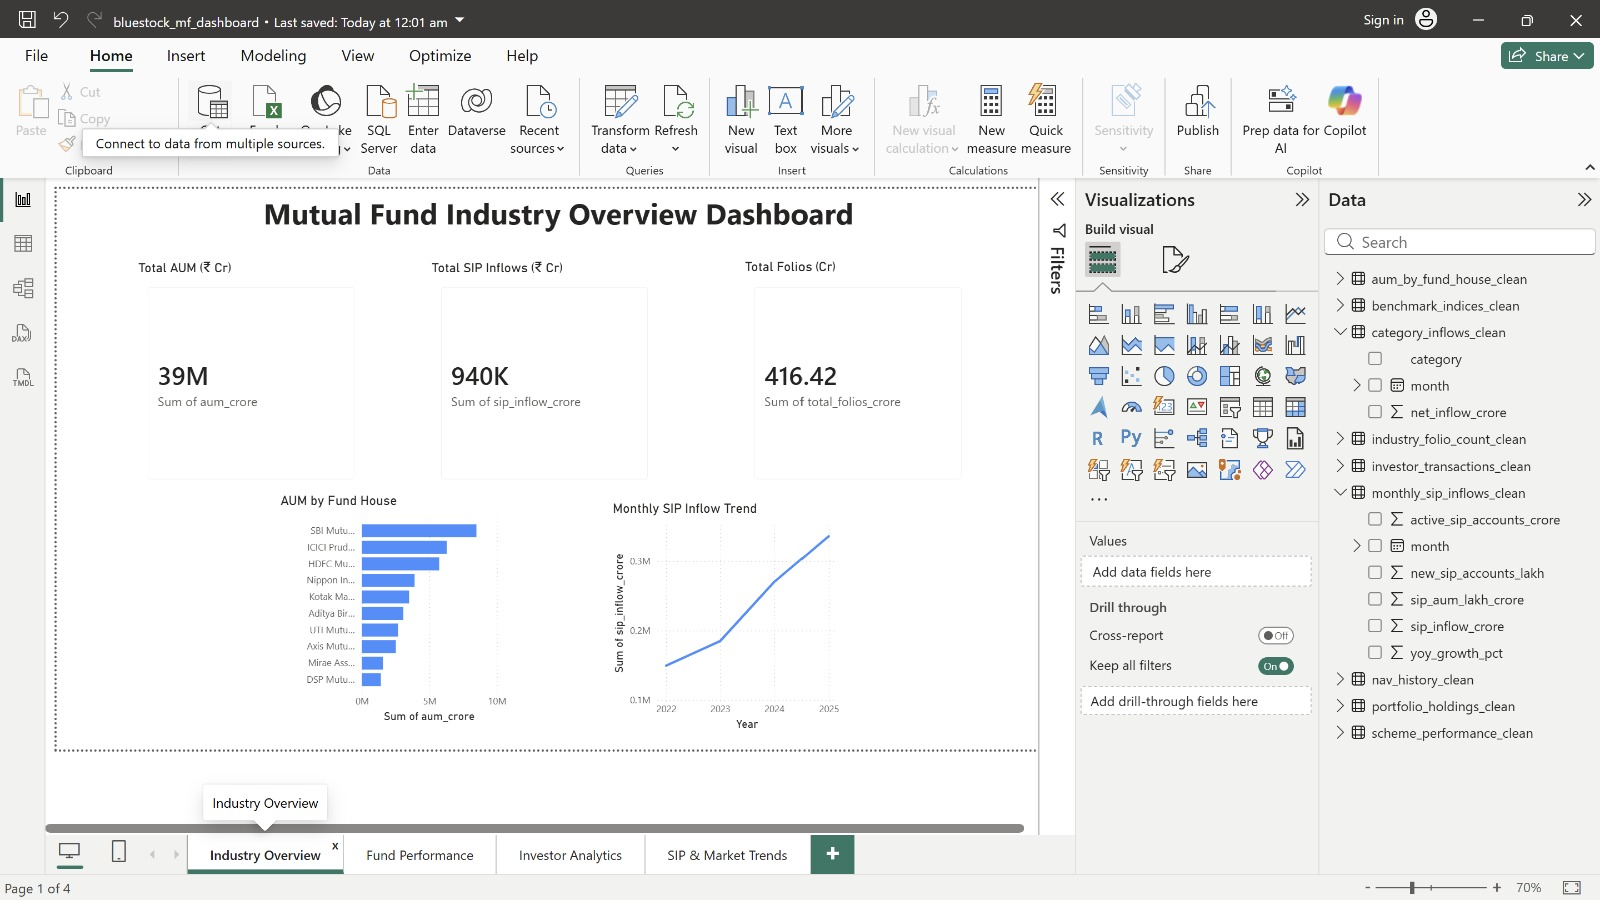

What the dashboard file says about the page in this screenshot:
{"tool":"powerbi","page":{"name":"Industry Overview","canvas":[1280,720],"ordinal":0},"visuals":[{"type":"textbox","box":[10,0,1270,720],"z":0},{"type":"cardVisual","box":[100,100,300,300],"z":1000},{"type":"cardVisual","title":"Total AUM (₹ Cr)","fields":{"Data":["Sum(aum_by_fund_house_clean.aum_crore)"]},"box":[100,90,300,300],"z":2000},{"type":"cardVisual","title":"Total SIP Inflows (₹ Cr)","fields":{"Data":["Sum(monthly_sip_inflows_clean.sip_inflow_crore)"]},"box":[477.1,90,300,300],"z":3000},{"type":"cardVisual","title":"Total Folios (Cr)","fields":{"Data":["Sum(industry_folio_count_clean.total_folios_crore)"]},"box":[880,90,300,300],"z":4000},{"type":"clusteredBarChart","title":"AUM by Fund House","fields":{"Category":["aum_by_fund_house_clean.fund_house"],"Y":["Sum(aum_by_fund_house_clean.aum_crore)"]},"box":[282.9,390,300,300],"z":5000},{"type":"lineChart","title":"Monthly SIP Inflow Trend","fields":{"Category":["monthly_sip_inflows_clean.month.Variation.Date Hierarchy.Year","monthly_sip_inflows_clean.month.Variation.Date Hierarchy.Quarter","monthly_sip_inflows_clean.month.Variation.Date Hierarchy.Month","monthly_sip_inflows_clean.month.Variation.Date Hierarchy.Day"],"Y":["Sum(monthly_sip_inflows_clean.sip_inflow_crore)"]},"box":[710,400,300,300],"z":6000}]}

Visuals, with their boxes on the page's 1280x720 design canvas (x1, y1, x2, y2). These are canvas units, not pixel positions in the 1600x900 screenshot, which may show the page scaled, cropped or inside an application window:
textbox: Rect(10, 0, 1280, 720)
cardVisual: Rect(100, 100, 400, 400)
"Total AUM (₹ Cr)" cardVisual: Rect(100, 90, 400, 390)
"Total SIP Inflows (₹ Cr)" cardVisual: Rect(477, 90, 777, 390)
"Total Folios (Cr)" cardVisual: Rect(880, 90, 1180, 390)
"AUM by Fund House" clusteredBarChart: Rect(283, 390, 583, 690)
"Monthly SIP Inflow Trend" lineChart: Rect(710, 400, 1010, 700)
